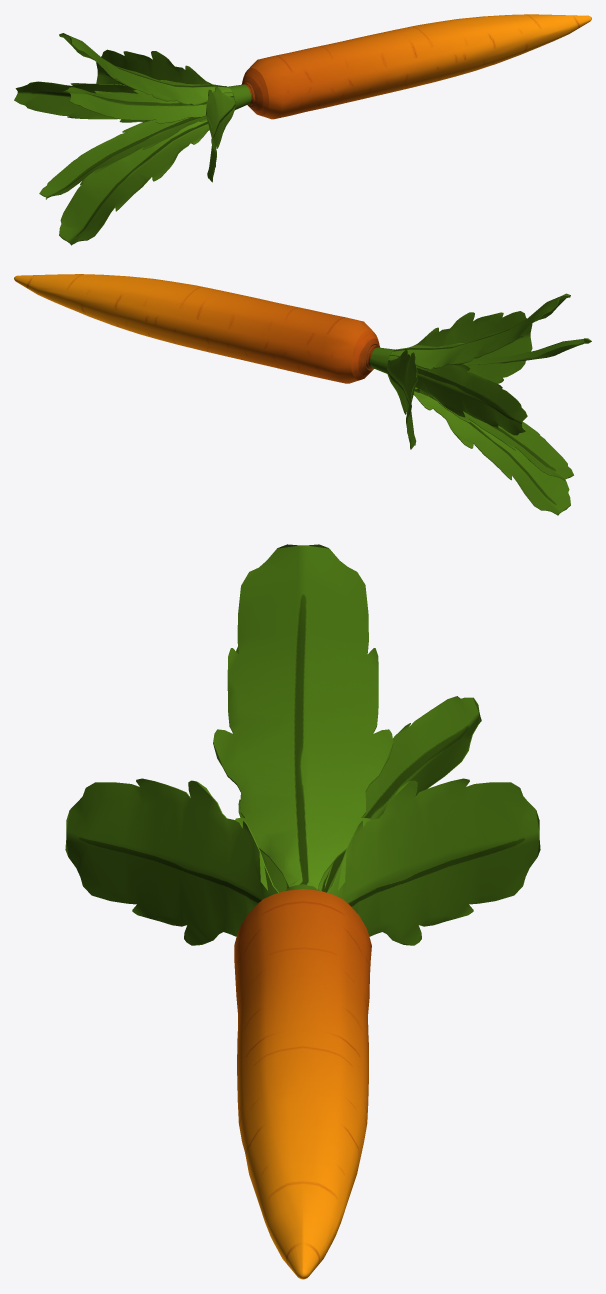
File: carrot.obj
3 views of the same model, one above another, from view 1: azimuth 30°, elevation 25°; view 2: azimuth 150°, elevation 25°; view 3: azimuth 270°, elevation 25° (orthographic). The views are drawn at different scales.
Visible parts, largest first — view 1: body_body_0, leaf_4_leaf_0, leaf_6_leaf_0, leaf_5_leaf_0, leaf_2_leaf_0, leaf_7_leaf_0, leaf_3_leaf_0, leaf_1_leaf_0, body_body1_0, body_leaf_0; view 2: body_body_0, leaf_7_leaf_0, leaf_4_leaf_0, leaf_1_leaf_0, leaf_2_leaf_0, leaf_6_leaf_0, leaf_3_leaf_0, leaf_5_leaf_0, body_body1_0, body_leaf_0; view 3: body_body_0, leaf_2_leaf_0, leaf_1_leaf_0, leaf_3_leaf_0, leaf_7_leaf_0.
Boxes of the visible parts, bbox=[...] form: body_body_0: bbox=[249, 14, 591, 119]; leaf_4_leaf_0: bbox=[59, 120, 209, 245]; leaf_6_leaf_0: bbox=[39, 116, 206, 199]; leaf_5_leaf_0: bbox=[63, 87, 233, 123]; leaf_2_leaf_0: bbox=[59, 33, 232, 105]; leaf_7_leaf_0: bbox=[14, 81, 145, 122]; leaf_3_leaf_0: bbox=[96, 49, 212, 122]; leaf_1_leaf_0: bbox=[205, 87, 235, 182]; body_body1_0: bbox=[241, 68, 268, 115]; body_leaf_0: bbox=[227, 84, 251, 109]; body_body_0: bbox=[14, 274, 372, 383]; leaf_7_leaf_0: bbox=[388, 356, 527, 435]; leaf_4_leaf_0: bbox=[413, 391, 570, 515]; leaf_1_leaf_0: bbox=[413, 311, 532, 383]; leaf_2_leaf_0: bbox=[389, 293, 570, 369]; leaf_6_leaf_0: bbox=[415, 387, 573, 480]; leaf_3_leaf_0: bbox=[387, 350, 417, 449]; leaf_5_leaf_0: bbox=[416, 338, 591, 366]; body_body1_0: bbox=[351, 330, 379, 379]; body_leaf_0: bbox=[370, 347, 394, 373]; body_body_0: bbox=[234, 889, 371, 1279]; leaf_2_leaf_0: bbox=[213, 544, 393, 889]; leaf_1_leaf_0: bbox=[65, 778, 278, 945]; leaf_3_leaf_0: bbox=[327, 778, 540, 945]; leaf_7_leaf_0: bbox=[318, 696, 481, 892].
Bounding box in the file's own units: 566 × 207 × 215.
3 materials, 3 textured.
